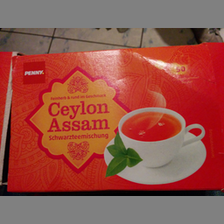tea: (9, 42, 223, 193)
